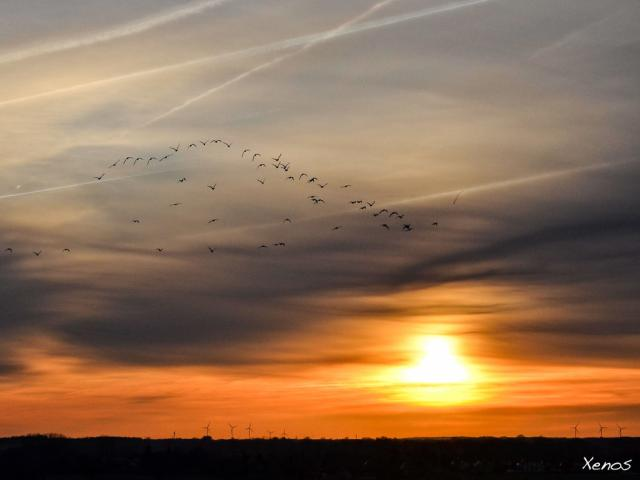Bird: (90, 133, 442, 260), (158, 153, 172, 162), (146, 155, 157, 166), (94, 172, 106, 182), (169, 142, 180, 152), (205, 245, 216, 255), (270, 153, 281, 162), (297, 171, 308, 180), (108, 160, 120, 168), (122, 157, 134, 165), (198, 138, 210, 146), (242, 148, 250, 160), (378, 224, 390, 232), (252, 152, 261, 162), (257, 176, 267, 185), (132, 157, 144, 164), (169, 200, 183, 206), (207, 182, 217, 190), (255, 162, 265, 170), (282, 217, 292, 225), (388, 209, 398, 217), (339, 182, 352, 188), (176, 177, 187, 184), (257, 243, 268, 250), (222, 141, 232, 148), (332, 224, 342, 231), (366, 200, 376, 207), (4, 246, 12, 254), (187, 143, 196, 150), (369, 211, 378, 218), (31, 251, 41, 257), (208, 218, 218, 224), (210, 139, 222, 144), (347, 200, 357, 206), (318, 183, 327, 189), (379, 208, 388, 214), (130, 218, 140, 223), (62, 247, 69, 254), (285, 176, 293, 182), (430, 220, 437, 226), (154, 248, 164, 252), (358, 205, 368, 209), (396, 214, 404, 219)
